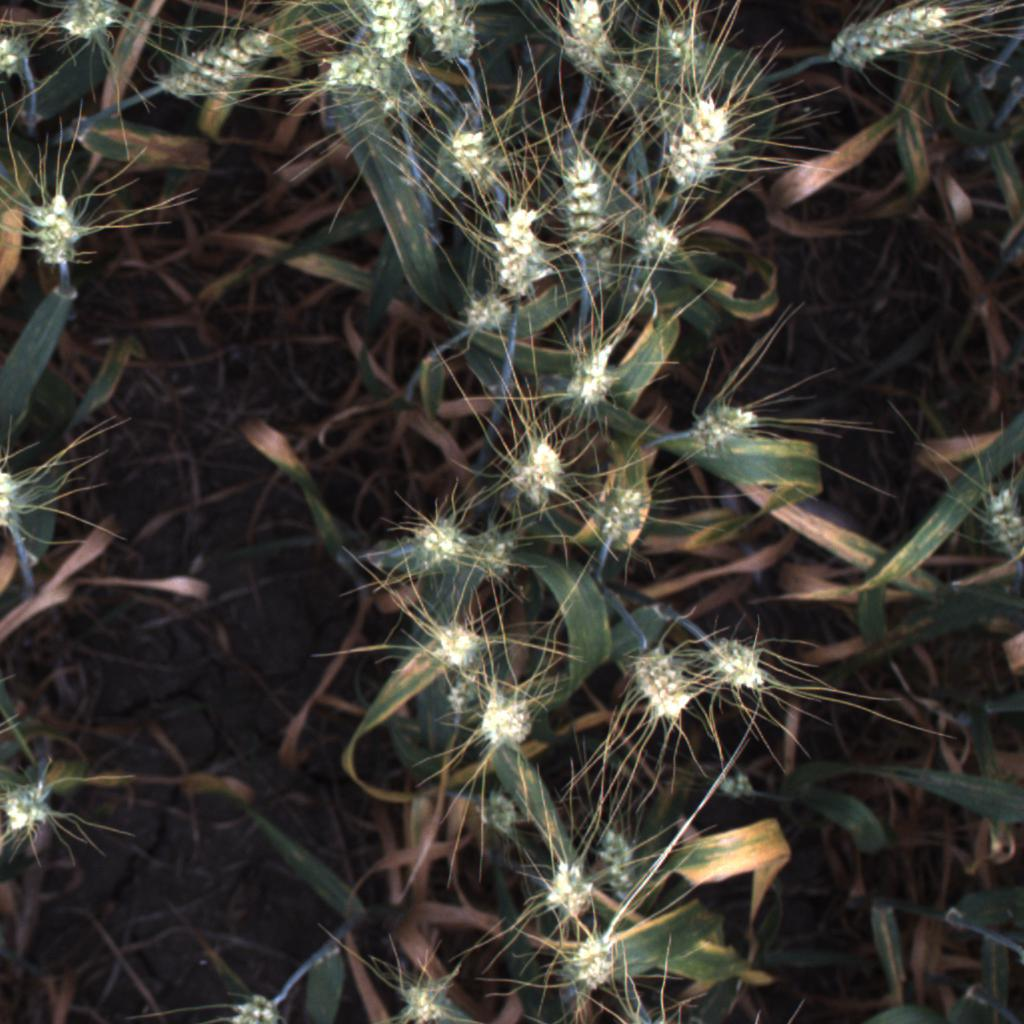0-0: (656, 67, 753, 207), (545, 134, 621, 291), (817, 0, 966, 77), (613, 629, 712, 739), (481, 424, 581, 517), (690, 613, 786, 709), (170, 21, 285, 95), (542, 326, 628, 419), (487, 195, 554, 301), (965, 463, 1024, 579), (545, 927, 631, 1003), (0, 765, 72, 851), (414, 0, 490, 74), (437, 118, 511, 193), (380, 960, 466, 1024), (0, 449, 54, 550), (313, 49, 401, 105), (681, 400, 767, 455), (544, 835, 603, 915), (594, 476, 655, 548), (28, 195, 93, 262), (46, 0, 122, 54), (396, 511, 462, 572), (188, 986, 291, 1024), (592, 827, 648, 896), (648, 13, 712, 72), (360, 0, 420, 62), (449, 289, 524, 338), (559, 0, 611, 69), (473, 686, 533, 743), (631, 216, 686, 268), (432, 618, 480, 674), (0, 26, 38, 89), (474, 541, 515, 583), (479, 795, 517, 840)
